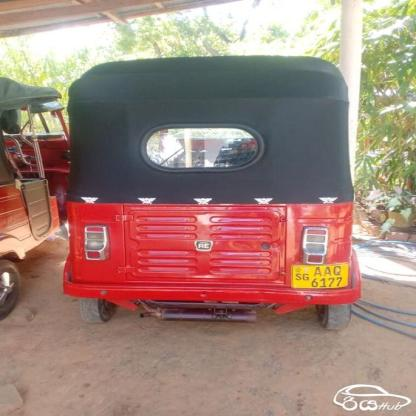number plate: (289, 261, 356, 289)
three wheeler back: (62, 52, 356, 330)
